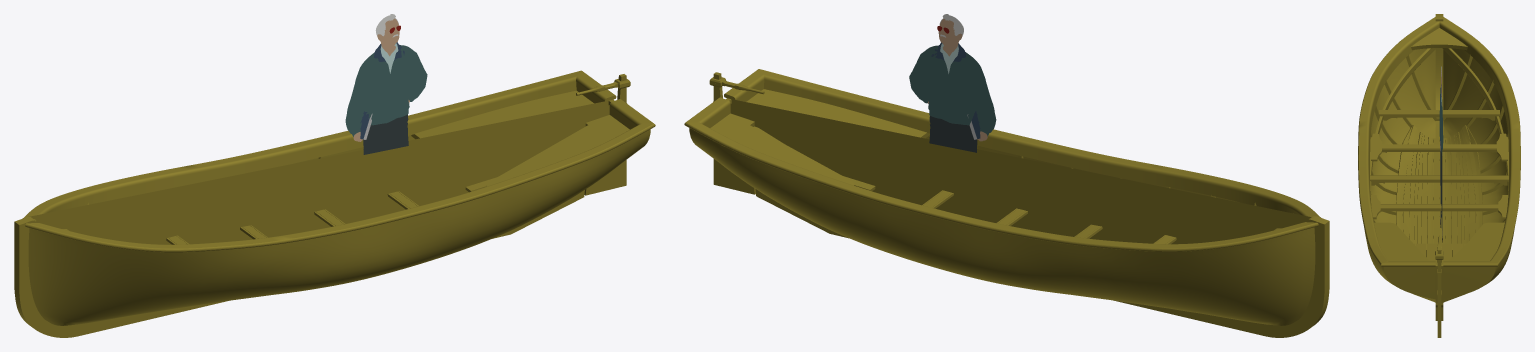
Rendered from Boat.obj.
3 views of the same model, side by side, from view 1: azimuth 30°, elevation 25°; view 2: azimuth 150°, elevation 25°; view 3: azimuth 270°, elevation 25° (orthographic). The views are drawn at different scales.
Parts seen in each view (by area): view 1: Mesh10 Group8 Group7 Group_5_1 Longboat1 Model, Mesh8 Group6 Group_5_1 Longboat1 Model, Mesh61 Group43 Group_5_2 Longboat1 Model, Mesh1 Steve1 Model, Mesh19 Group13 Group_5_1 Longboat1 Model, Mesh50 Group36 Group_5_2 Longboat1 Model, Mesh13 Group11 Group_5_1 Longboat1 Model, Mesh55 Group41 Group_5_2 Longboat1 Model, Mesh2 Group2 Group1 Longboat1 Model; view 2: Mesh52 Group38 Group37 Group_5_2 Longboat1 Model, Mesh50 Group36 Group_5_2 Longboat1 Model, Mesh19 Group13 Group_5_1 Longboat1 Model, Mesh1 Steve1 Model, Mesh61 Group43 Group_5_2 Longboat1 Model, Mesh8 Group6 Group_5_1 Longboat1 Model, Mesh55 Group41 Group_5_2 Longboat1 Model, Mesh13 Group11 Group_5_1 Longboat1 Model, Mesh2 Group2 Group1 Longboat1 Model; view 3: Mesh11 Group7 Group_5_1 Longboat1 Model, Mesh53 Group37 Group_5_2 Longboat1 Model, Mesh19 Group13 Group_5_1 Longboat1 Model, Mesh61 Group43 Group_5_2 Longboat1 Model, Mesh9 Group9 Group8 Group7 Group_5_1 Longboat1 Model, Mesh51 Group39 Group38 Group37 Group_5_2 Longboat1 Model, Mesh13 Group11 Group_5_1 Longboat1 Model, Mesh55 Group41 Group_5_2 Longboat1 Model, Mesh8 Group6 Group_5_1 Longboat1 Model, Mesh29 Group23 Group_5_1 Longboat1 Model, Mesh71 Group53 Group_5_2 Longboat1 Model, Mesh47 Group35 Group34 Group_5_1 Longboat1 Model (+46 smaller).
Part boxes in pixels (left/top/right/bottom): Mesh10 Group8 Group7 Group_5_1 Longboat1 Model: left=28, top=129, right=650, bottom=325; Mesh8 Group6 Group_5_1 Longboat1 Model: left=17, top=105, right=609, bottom=337; Mesh61 Group43 Group_5_2 Longboat1 Model: left=23, top=70, right=616, bottom=221; Mesh1 Steve1 Model: left=345, top=14, right=427, bottom=154; Mesh19 Group13 Group_5_1 Longboat1 Model: left=25, top=99, right=655, bottom=252; Mesh50 Group36 Group_5_2 Longboat1 Model: left=14, top=99, right=614, bottom=324; Mesh13 Group11 Group_5_1 Longboat1 Model: left=486, top=115, right=629, bottom=186; Mesh55 Group41 Group_5_2 Longboat1 Model: left=411, top=90, right=593, bottom=139; Mesh2 Group2 Group1 Longboat1 Model: left=584, top=74, right=626, bottom=195; Mesh52 Group38 Group37 Group_5_2 Longboat1 Model: left=689, top=128, right=1315, bottom=325; Mesh50 Group36 Group_5_2 Longboat1 Model: left=730, top=103, right=1326, bottom=337; Mesh19 Group13 Group_5_1 Longboat1 Model: left=724, top=69, right=1320, bottom=219; Mesh1 Steve1 Model: left=909, top=14, right=996, bottom=152; Mesh61 Group43 Group_5_2 Longboat1 Model: left=684, top=97, right=1318, bottom=251; Mesh8 Group6 Group_5_1 Longboat1 Model: left=726, top=98, right=1329, bottom=325; Mesh55 Group41 Group_5_2 Longboat1 Model: left=710, top=113, right=854, bottom=185; Mesh13 Group11 Group_5_1 Longboat1 Model: left=746, top=89, right=929, bottom=138; Mesh2 Group2 Group1 Longboat1 Model: left=713, top=72, right=755, bottom=194; Mesh11 Group7 Group_5_1 Longboat1 Model: left=1371, top=48, right=1435, bottom=257; Mesh53 Group37 Group_5_2 Longboat1 Model: left=1443, top=48, right=1507, bottom=243; Mesh19 Group13 Group_5_1 Longboat1 Model: left=1358, top=17, right=1439, bottom=266; Mesh61 Group43 Group_5_2 Longboat1 Model: left=1439, top=17, right=1520, bottom=266; Mesh9 Group9 Group8 Group7 Group_5_1 Longboat1 Model: left=1383, top=266, right=1435, bottom=299; Mesh51 Group39 Group38 Group37 Group_5_2 Longboat1 Model: left=1443, top=266, right=1495, bottom=299; Mesh13 Group11 Group_5_1 Longboat1 Model: left=1374, top=222, right=1437, bottom=264; Mesh55 Group41 Group_5_2 Longboat1 Model: left=1441, top=222, right=1504, bottom=264; Mesh8 Group6 Group_5_1 Longboat1 Model: left=1435, top=14, right=1439, bottom=320; Mesh29 Group23 Group_5_1 Longboat1 Model: left=1370, top=48, right=1436, bottom=194; Mesh71 Group53 Group_5_2 Longboat1 Model: left=1442, top=48, right=1508, bottom=194; Mesh47 Group35 Group34 Group_5_1 Longboat1 Model: left=1433, top=138, right=1439, bottom=247.
Size of the model in its own units: 247 by 94.94 by 71.52.
